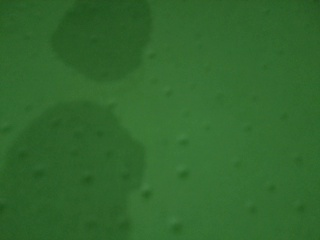Water_detected: (61, 26, 184, 240)
